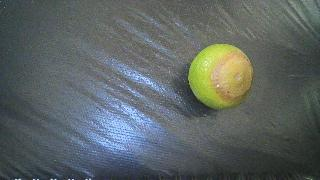DESECHO: (188, 44, 253, 109)
